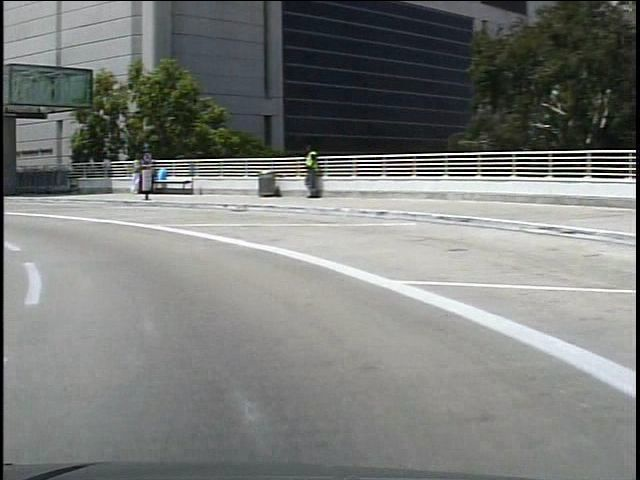person: (293, 142, 316, 201)
